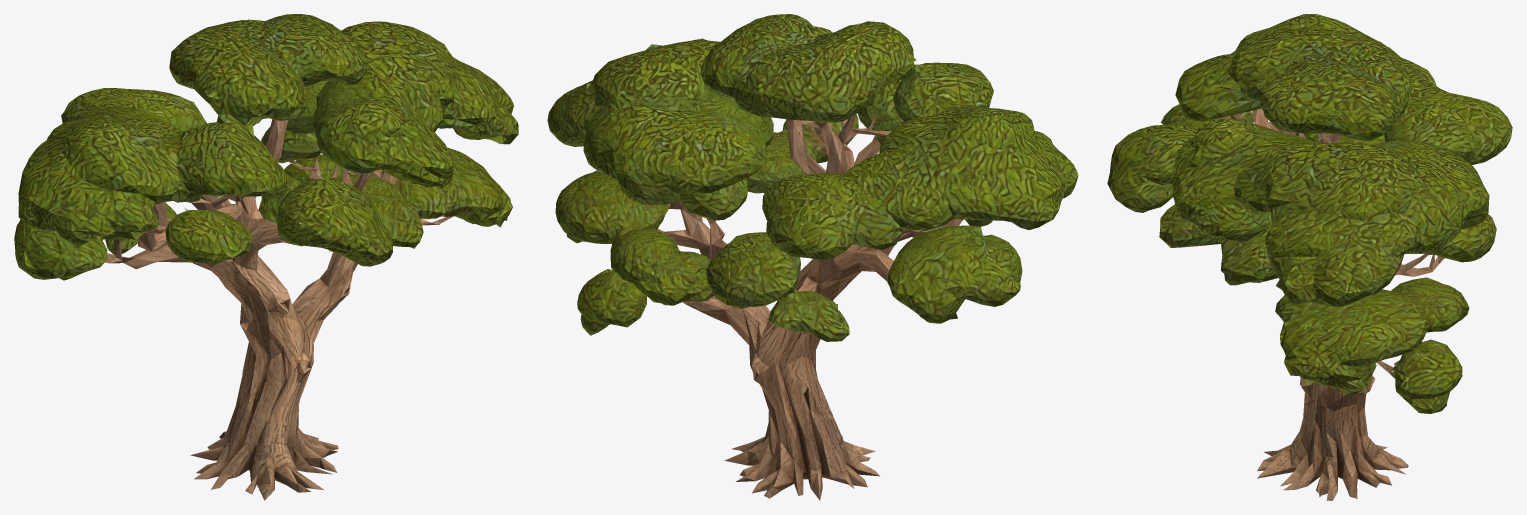
The model's file is base_basic_pbr.glb.
The picture shows the model from 3 angles, left to right: view 1: azimuth 30°, elevation 25°; view 2: azimuth 150°, elevation 25°; view 3: azimuth 270°, elevation 25°; orthographic projection. The views are drawn at different scales.
Parts seen in each view (by area): view 1: model; view 2: model; view 3: model.
Boxes of the visible parts, x1,y1,x2,y2 form: model: (14, 14, 518, 500); model: (547, 14, 1078, 500); model: (1107, 14, 1512, 500).
Size of the model in its own units: 1.89 by 1.6 by 1.41.
1 material, 1 textured.
